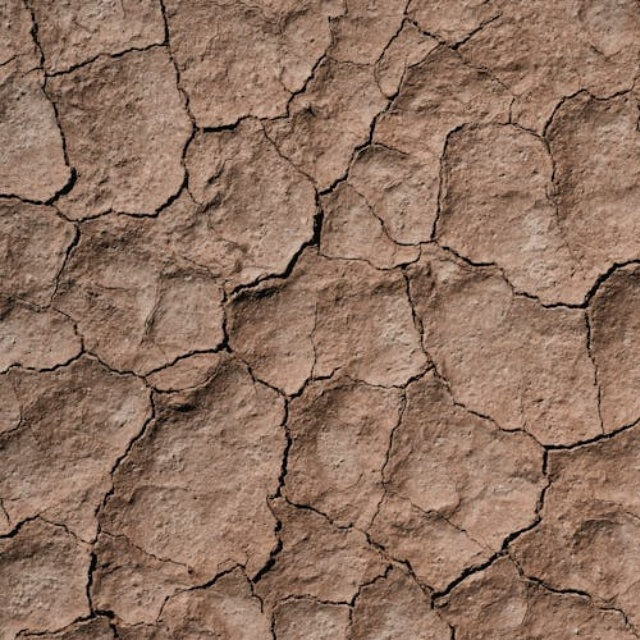细微裂纹: (142, 249, 332, 640), (211, 293, 335, 640)
网状裂隙: (208, 0, 640, 559), (206, 161, 538, 640), (199, 360, 336, 640)
